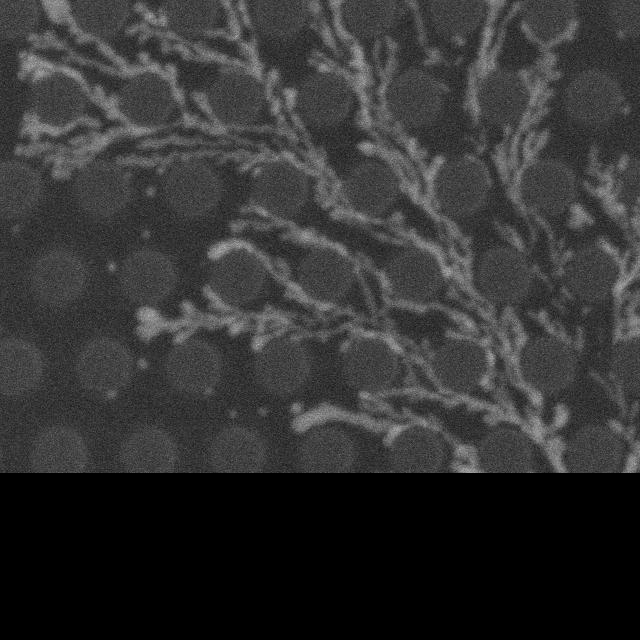Dendrite: (266, 68, 453, 272), (231, 207, 489, 333), (19, 93, 324, 176), (327, 0, 440, 219), (137, 267, 371, 351), (362, 381, 569, 473), (43, 0, 197, 123), (494, 14, 577, 200), (136, 286, 354, 350), (342, 318, 476, 402), (582, 149, 640, 342), (475, 309, 553, 447), (292, 390, 448, 444), (487, 191, 568, 287), (125, 3, 243, 67), (432, 211, 496, 324), (20, 27, 104, 106), (370, 0, 443, 64), (595, 375, 640, 473), (468, 0, 516, 83), (529, 309, 579, 345), (210, 240, 271, 264), (449, 442, 492, 473), (567, 203, 592, 230), (465, 88, 480, 121), (45, 0, 66, 19), (24, 59, 25, 62), (515, 325, 515, 326)
